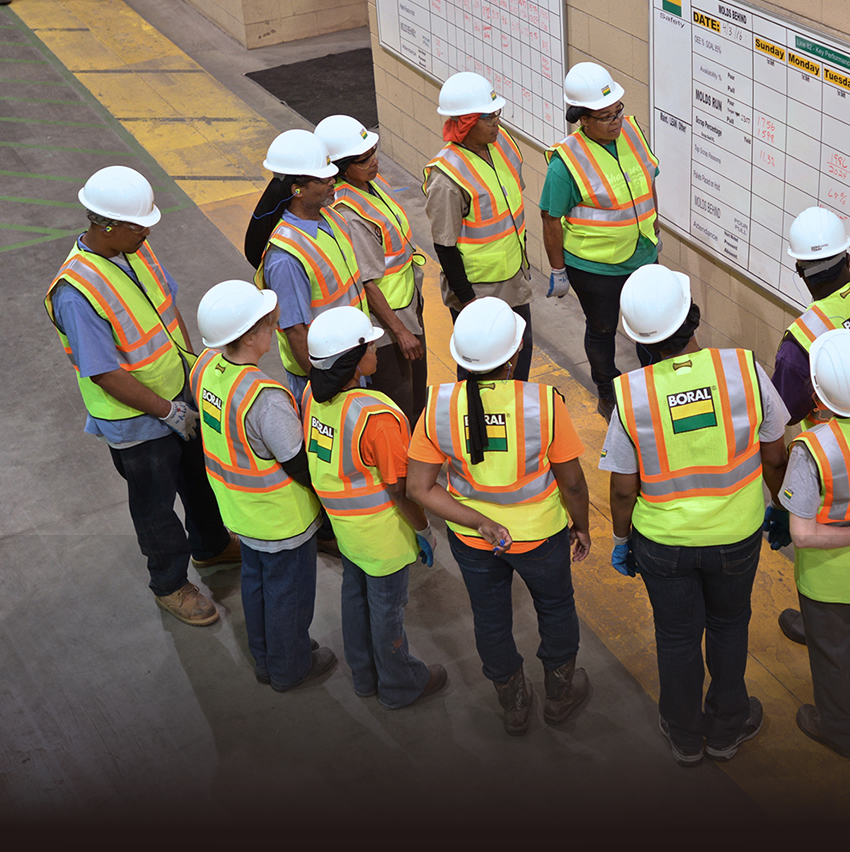Helmet: (181, 274, 299, 376), (76, 160, 165, 268), (303, 302, 393, 402), (256, 125, 340, 230), (447, 293, 533, 384), (435, 66, 519, 159), (560, 58, 642, 148), (618, 260, 696, 352), (778, 205, 850, 303), (310, 113, 394, 196), (802, 324, 850, 425)
Reflective vest: (606, 349, 774, 556), (39, 234, 201, 424), (182, 347, 320, 552), (299, 374, 424, 595), (426, 377, 570, 565), (250, 203, 376, 366), (420, 128, 544, 292), (546, 117, 669, 270), (783, 421, 850, 608), (335, 167, 418, 311)
